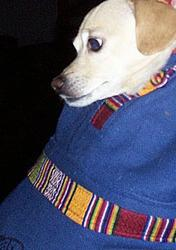dog: (48, 0, 176, 121)
person: (8, 0, 176, 248)
